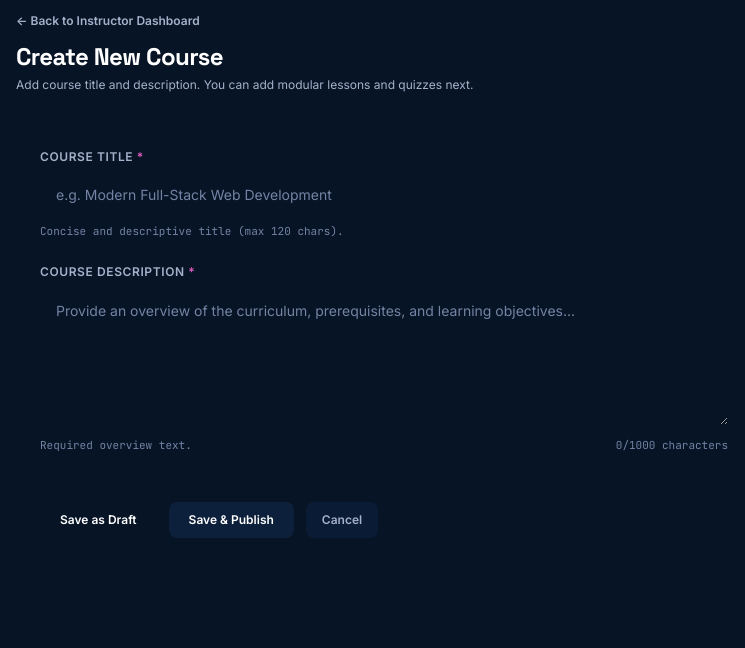
it: Reliability & API Failure Handling Tests › displays permission denied (RLS) error and never shows false success
The image size is (745, 648).
In the field labelled "Course Title *": (384, 195) [40,173,728,217], type "Unauthorized Course"
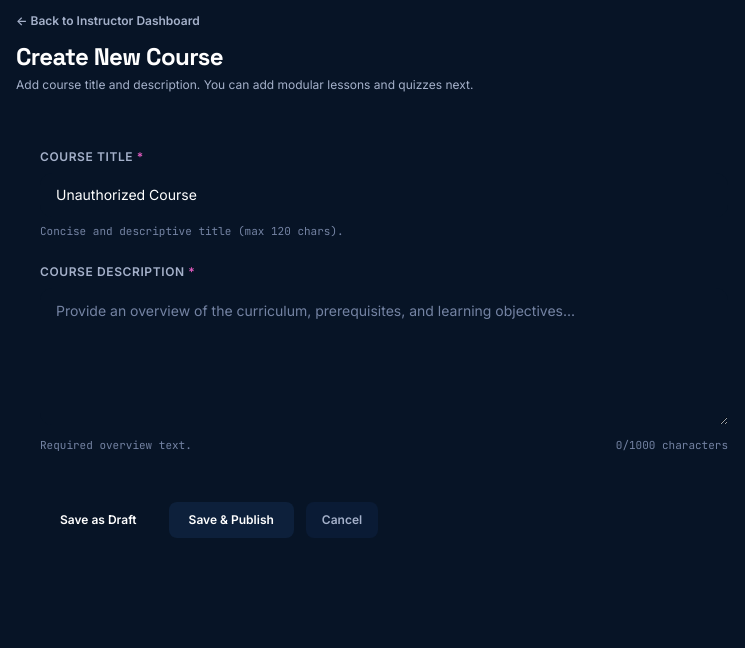
Replace the text in the text box labelled "Course Description *" with "This should be blocked by RLS.": (384, 356) [40,288,728,425]
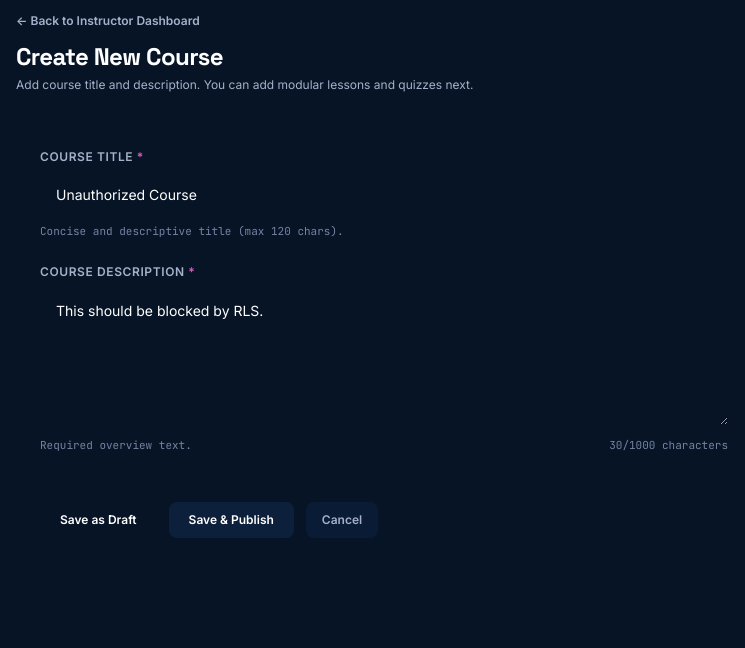
Click the button "Save as Draft": (98, 520) [40,502,157,538]
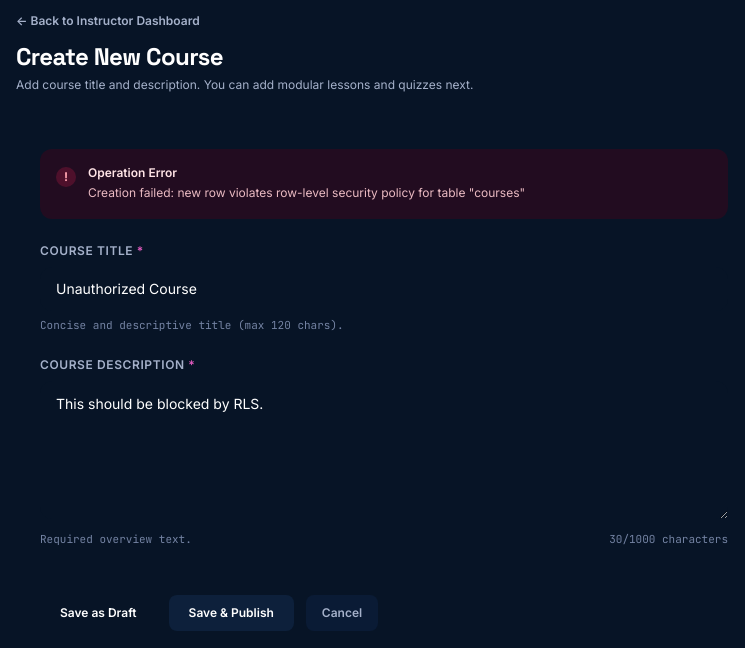
Expected: the text "new row violates row-level security policy" is shown, [88,185,525,200]
